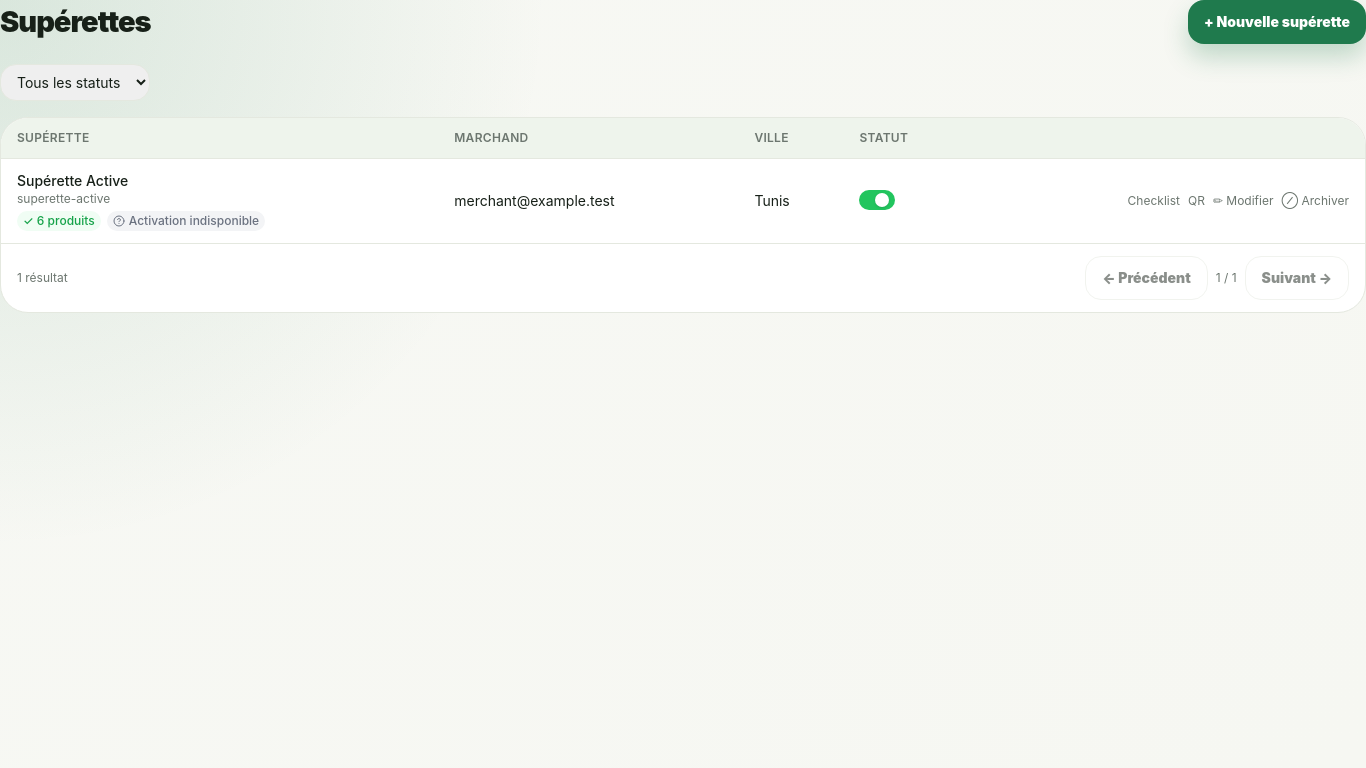
it: SuperettesPage › charge le détail checklist incomplet si la liste ne le fournit pas
Expected: the text "Activation indisponible" is shown, [107,211,265,231]
Click the button with aria-label "Voir la checklist activation" at [1154, 201], box [1128,193,1180,209]
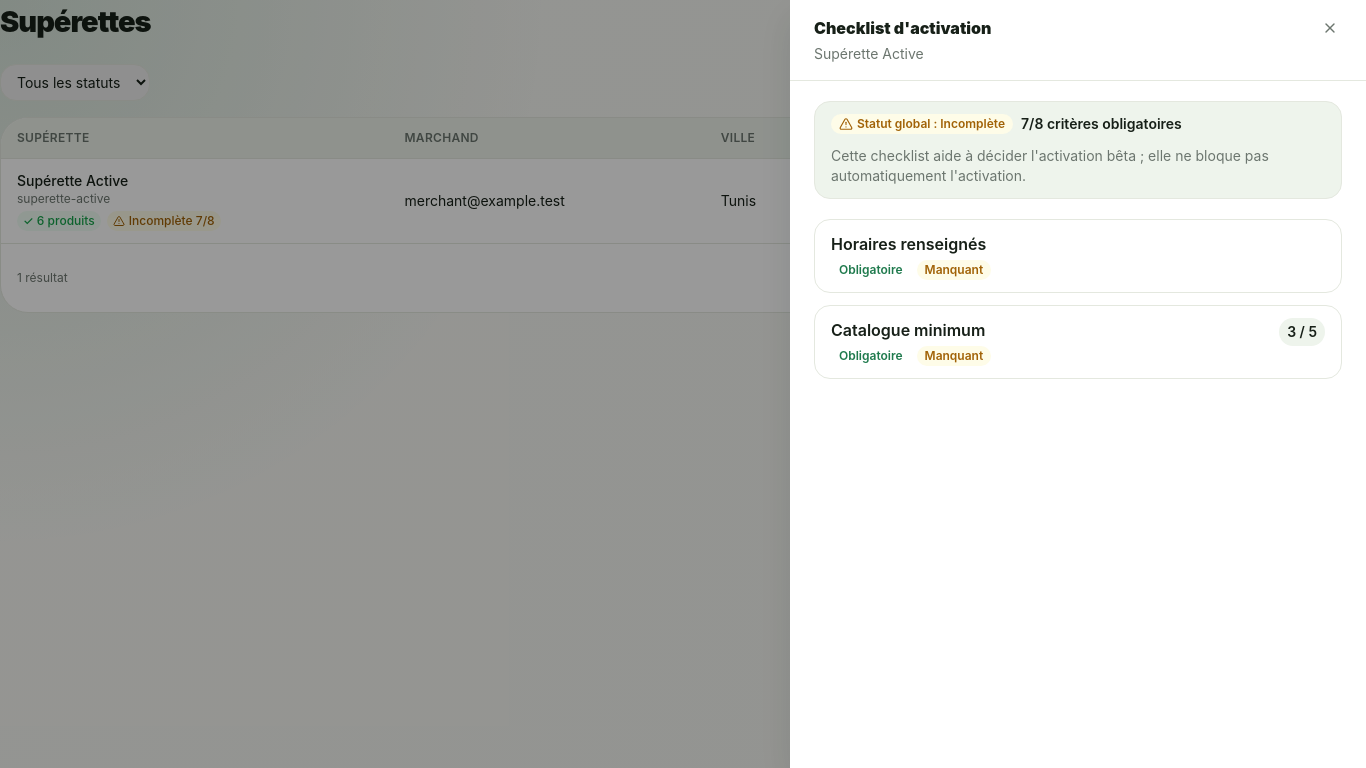
Expected: the text "Statut global : Incomplète" is shown, [831,114,1013,134]
Expected: the text "7/8 critères obligatoires" is shown, [1021,114,1182,134]
Expected: the text "Horaires renseignés" is shown, [831,232,991,256]
